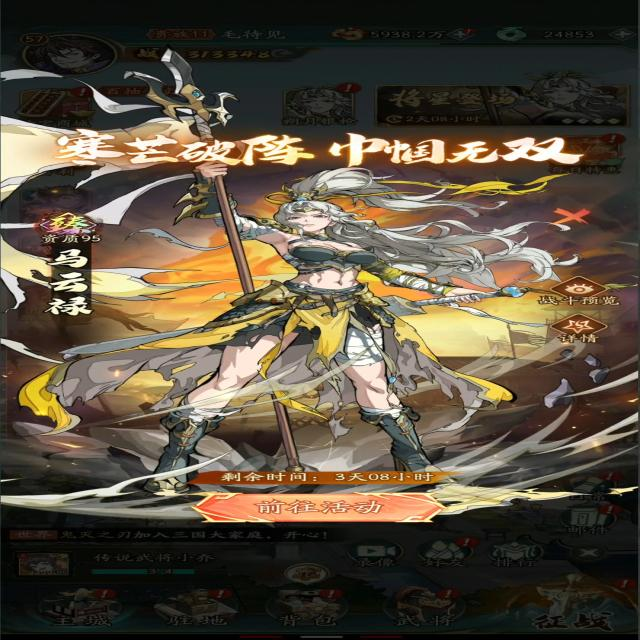operation-close: (544, 201, 596, 229)
operation-confirm: (186, 489, 454, 526)
